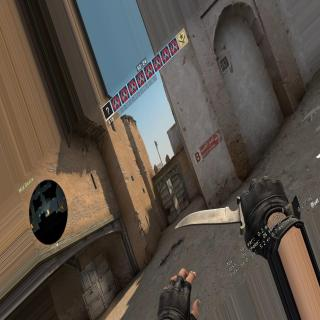CT-Head: (170, 186, 172, 188)
